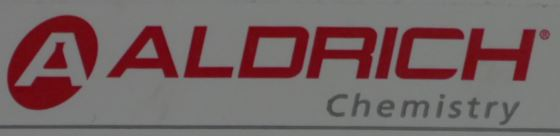SigmaAldrich: (5, 13, 553, 130)
